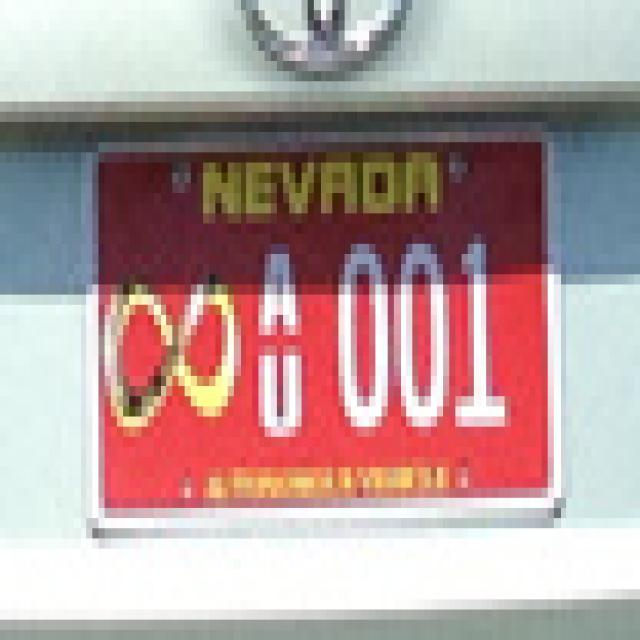0: (337, 231, 395, 445), (393, 230, 449, 443)
1: (455, 224, 512, 447)
A: (252, 224, 306, 346)
U: (250, 339, 309, 447)
